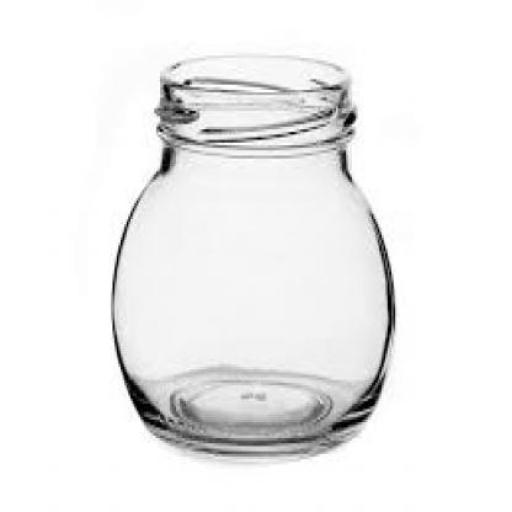glass: (108, 53, 394, 457)
